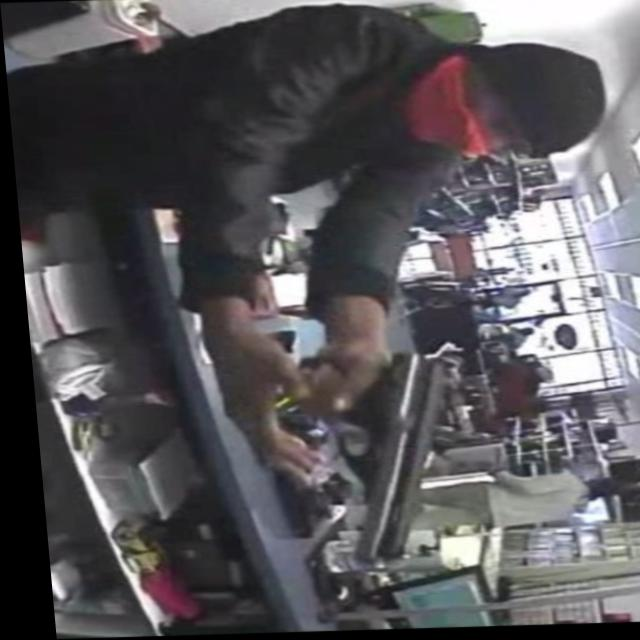handgun: (279, 354, 455, 566)
